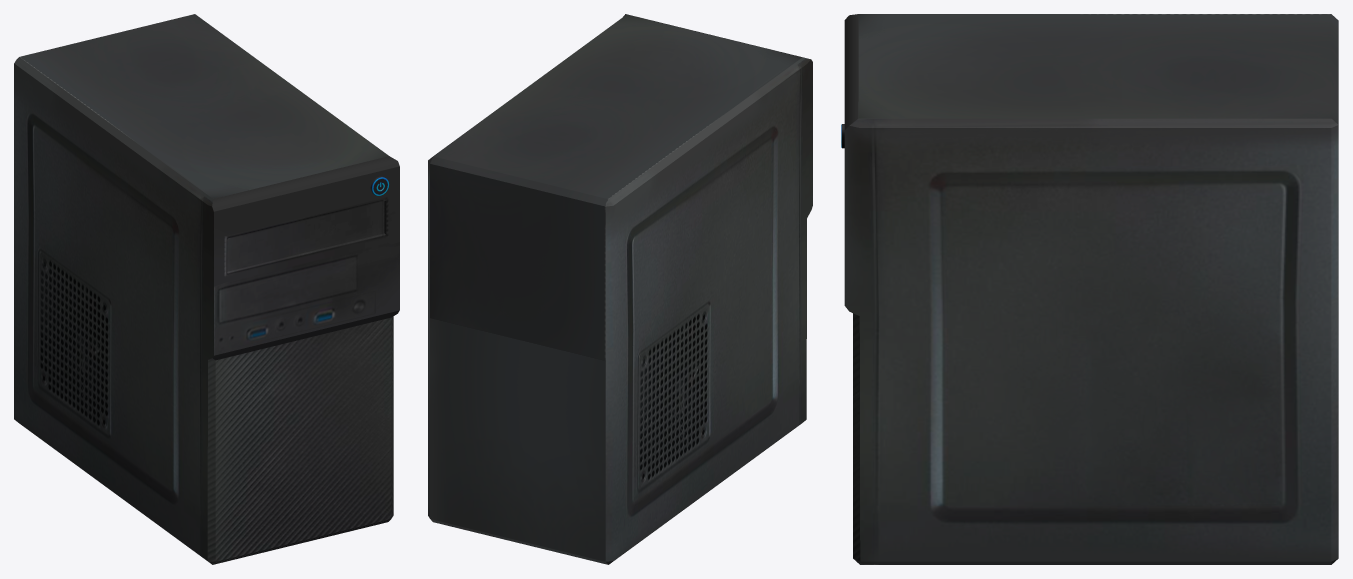
File: Computer.fbx
3 renders of one model, left to right at view 1: azimuth 30°, elevation 25°; view 2: azimuth 150°, elevation 25°; view 3: azimuth 270°, elevation 25°, orthographic. The views are drawn at different scales.
Visible parts, largest first — view 1: pCube8; view 2: pCube8; view 3: pCube8.
Part boxes in pixels (x1=…): pCube8: x1=14, y1=14, x2=399, y2=564; pCube8: x1=428, y1=14, x2=812, y2=564; pCube8: x1=841, y1=14, x2=1338, y2=564.
Bounding box in the file's own units: 27.15 × 51.13 × 51.6.
